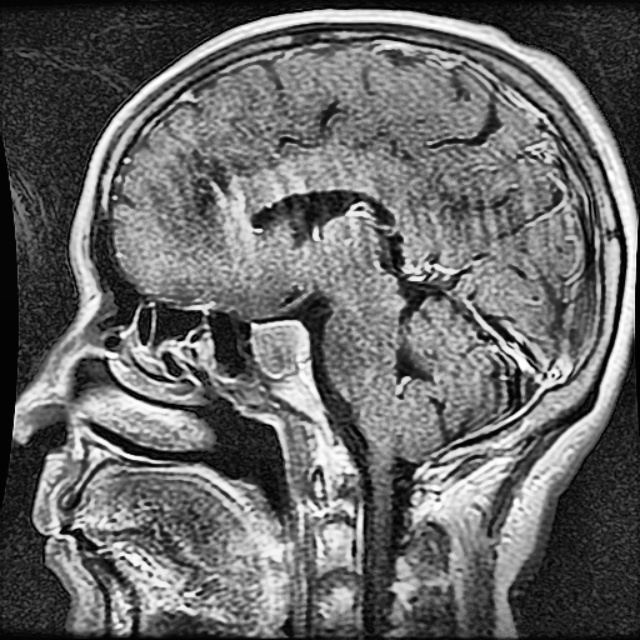Pituitary: (253, 322, 308, 374)
